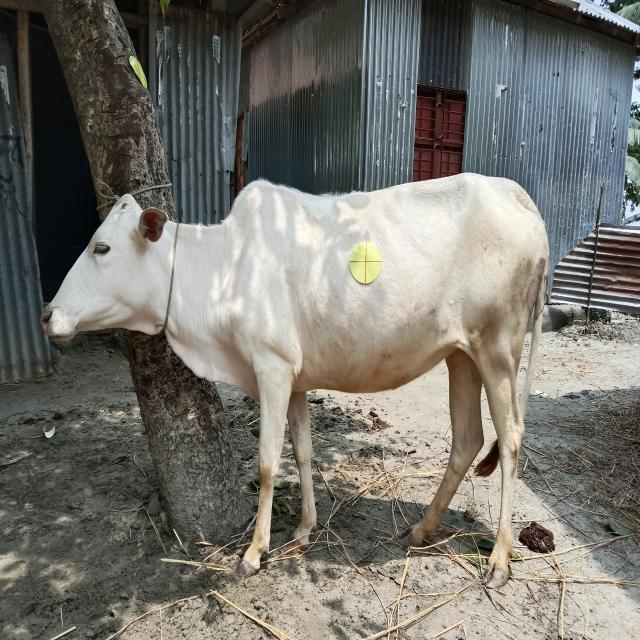badan_sapi: (242, 181, 539, 390)
sapi: (28, 155, 566, 603)
